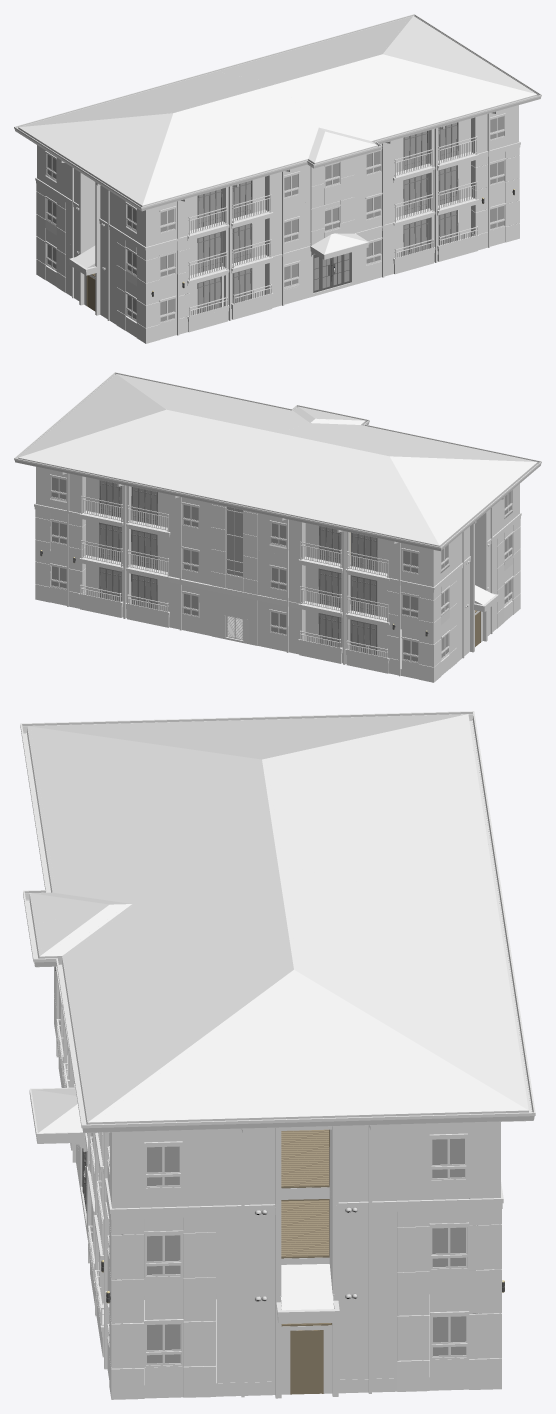
The model's file is BLDG 3-optimized (1).glb.
3 views of the same model, one above another, from view 1: azimuth 30°, elevation 25°; view 2: azimuth 150°, elevation 25°; view 3: azimuth 270°, elevation 25° (orthographic). The views are drawn at different scales.
Visible parts, largest first — view 1: Group390, Group384, Group814, Group623, Group151, Group381, Group382, Component_3905_1, Group395, Group374, Group389, Group380 (+8 smaller); view 2: Group390, Group384, Group814, Group623, Group151, Group380, Component_3905_1, Group379, Group373, Group395, Group389, Group381 (+18 smaller); view 3: Group384, Group390, Group814, Group151, Group382, Group379, Group623, Group389, Group395, Component_3905_1, Group532, Group333 (+8 smaller).
Part boxes in pixels (box(x1,y1,x2,y2)): Group390: box(19, 71, 345, 205); Group384: box(216, 16, 536, 153); Group814: box(37, 105, 518, 247); Group623: box(45, 161, 505, 315); Group151: box(46, 165, 505, 339); Group381: box(116, 235, 189, 343); Group382: box(471, 147, 519, 250); Component_3905_1: box(46, 210, 484, 332); Group395: box(14, 70, 347, 211); Group374: box(311, 157, 354, 245); Group389: box(214, 14, 541, 158); Group380: box(36, 179, 65, 292); Group390: box(229, 413, 536, 545); Group384: box(19, 374, 331, 501); Group814: box(36, 467, 519, 586); Group623: box(50, 500, 513, 652); Group151: box(43, 524, 512, 679); Group380: box(387, 573, 457, 682); Component_3905_1: box(45, 569, 512, 675); Group379: box(35, 498, 85, 608); Group373: box(211, 503, 257, 594); Group395: box(227, 412, 541, 551); Group389: box(14, 372, 333, 506); Group381: box(497, 516, 520, 628); Group384: box(34, 864, 528, 1122); Group390: box(27, 714, 498, 924); Group814: box(107, 1122, 500, 1208); Group151: box(67, 1047, 497, 1398); Group382: box(106, 1193, 215, 1399); Group379: box(397, 1198, 501, 1391); Group623: box(87, 1133, 498, 1296); Group389: box(28, 912, 535, 1133); Group395: box(20, 711, 504, 933); Component_3905_1: box(56, 1035, 493, 1398); Group532: box(281, 1264, 333, 1310); Group333: box(31, 1088, 82, 1133).
Bounding box in the file's own units: 1.24 × 0.478 × 0.6522.
